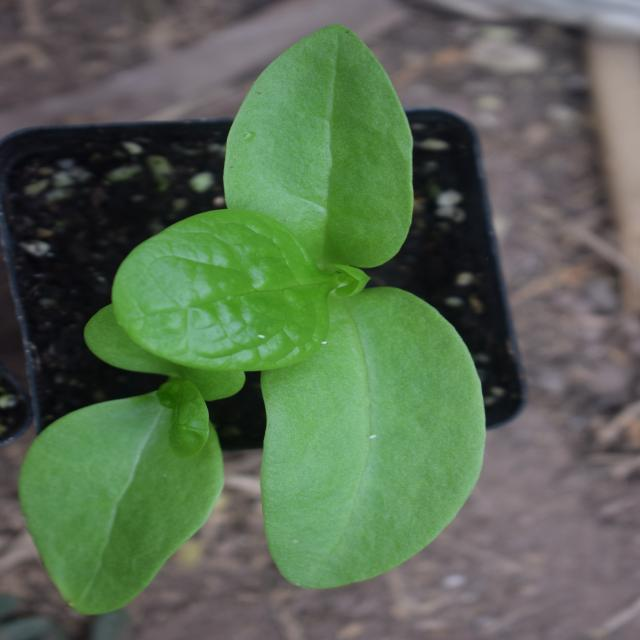Ceylon spinach: (54, 133, 614, 604)
